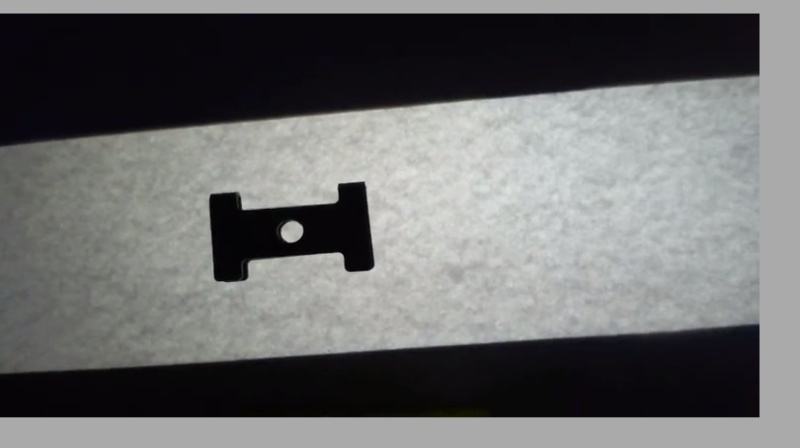O002: (201, 177, 377, 287)
